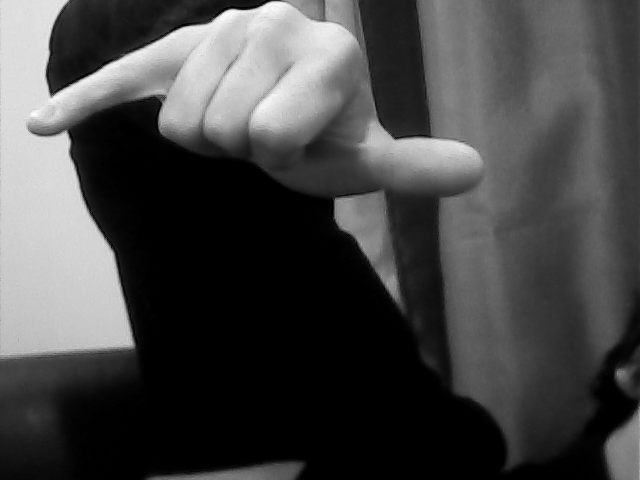aloha: (21, 1, 490, 200)
